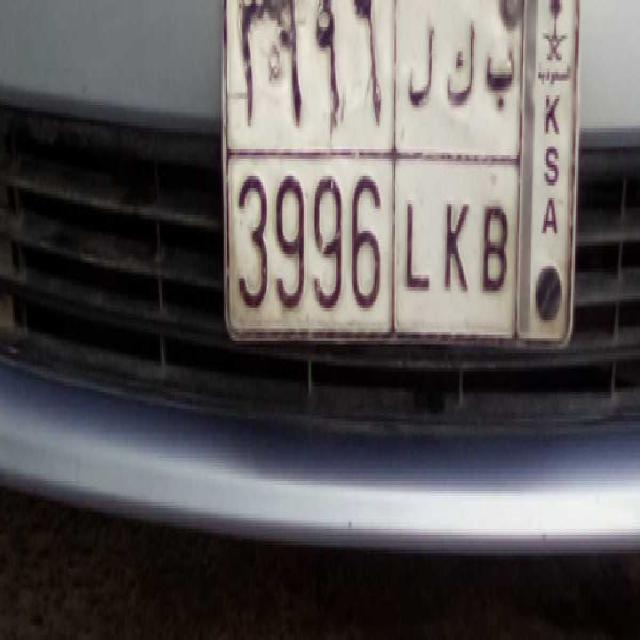license_plate: (237, 148, 511, 336)
